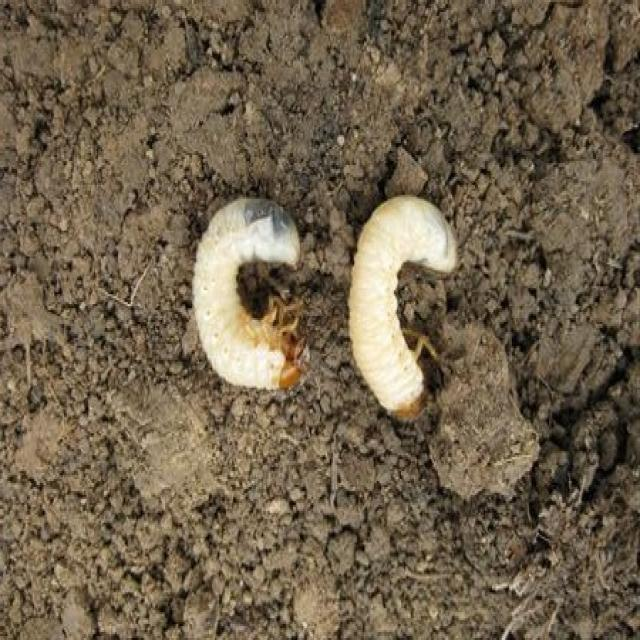grub: (337, 199, 459, 411), (189, 202, 311, 389)
